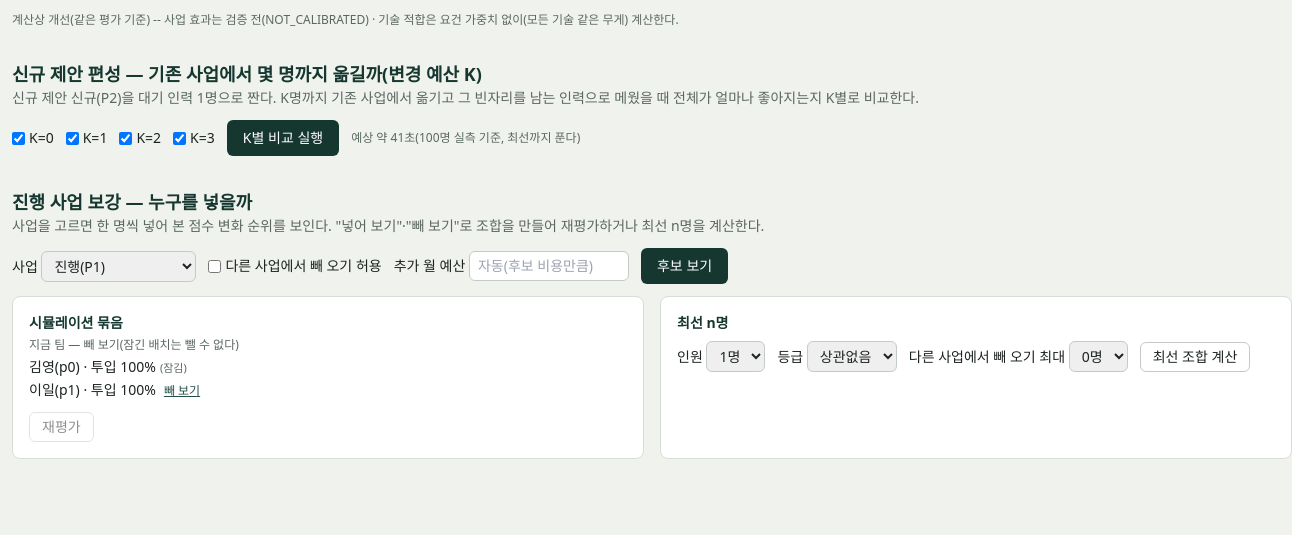
Test case: OperatingTab — 리뷰 반영 › 직전 K의 해를 유지한 행에는 '최선 증명'을 띄우지 않는다
The image size is (1292, 535).
Step 1. Click the button "K별 비교 실행" → coordinates (283, 138), box [227,120,339,156]
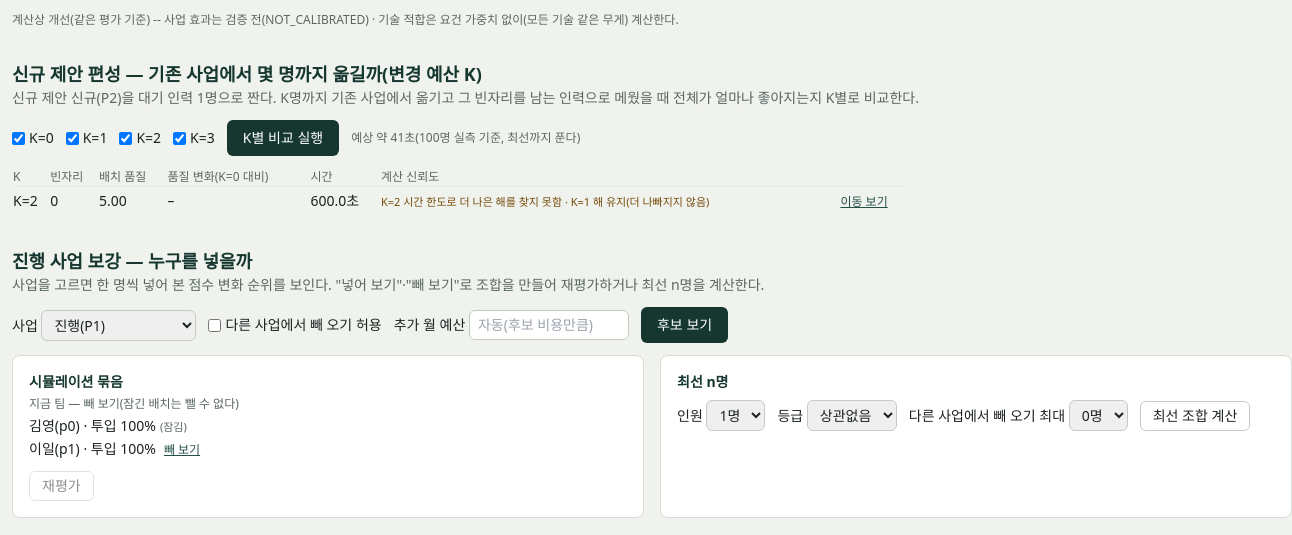
Result: the text "K=2 시간 한도로 더 나은 해를 찾지 못함 · K=1 해 유지(더 나빠지지 않음)" is shown at [381,194,709,208]
